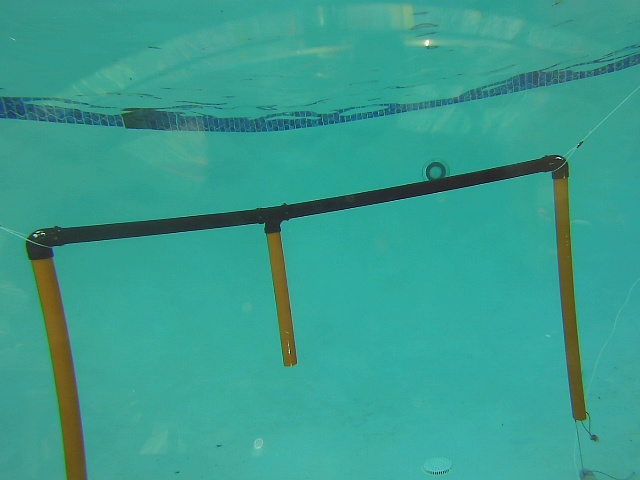Gate: (24, 245, 96, 480), (546, 166, 593, 425), (260, 221, 301, 369)
